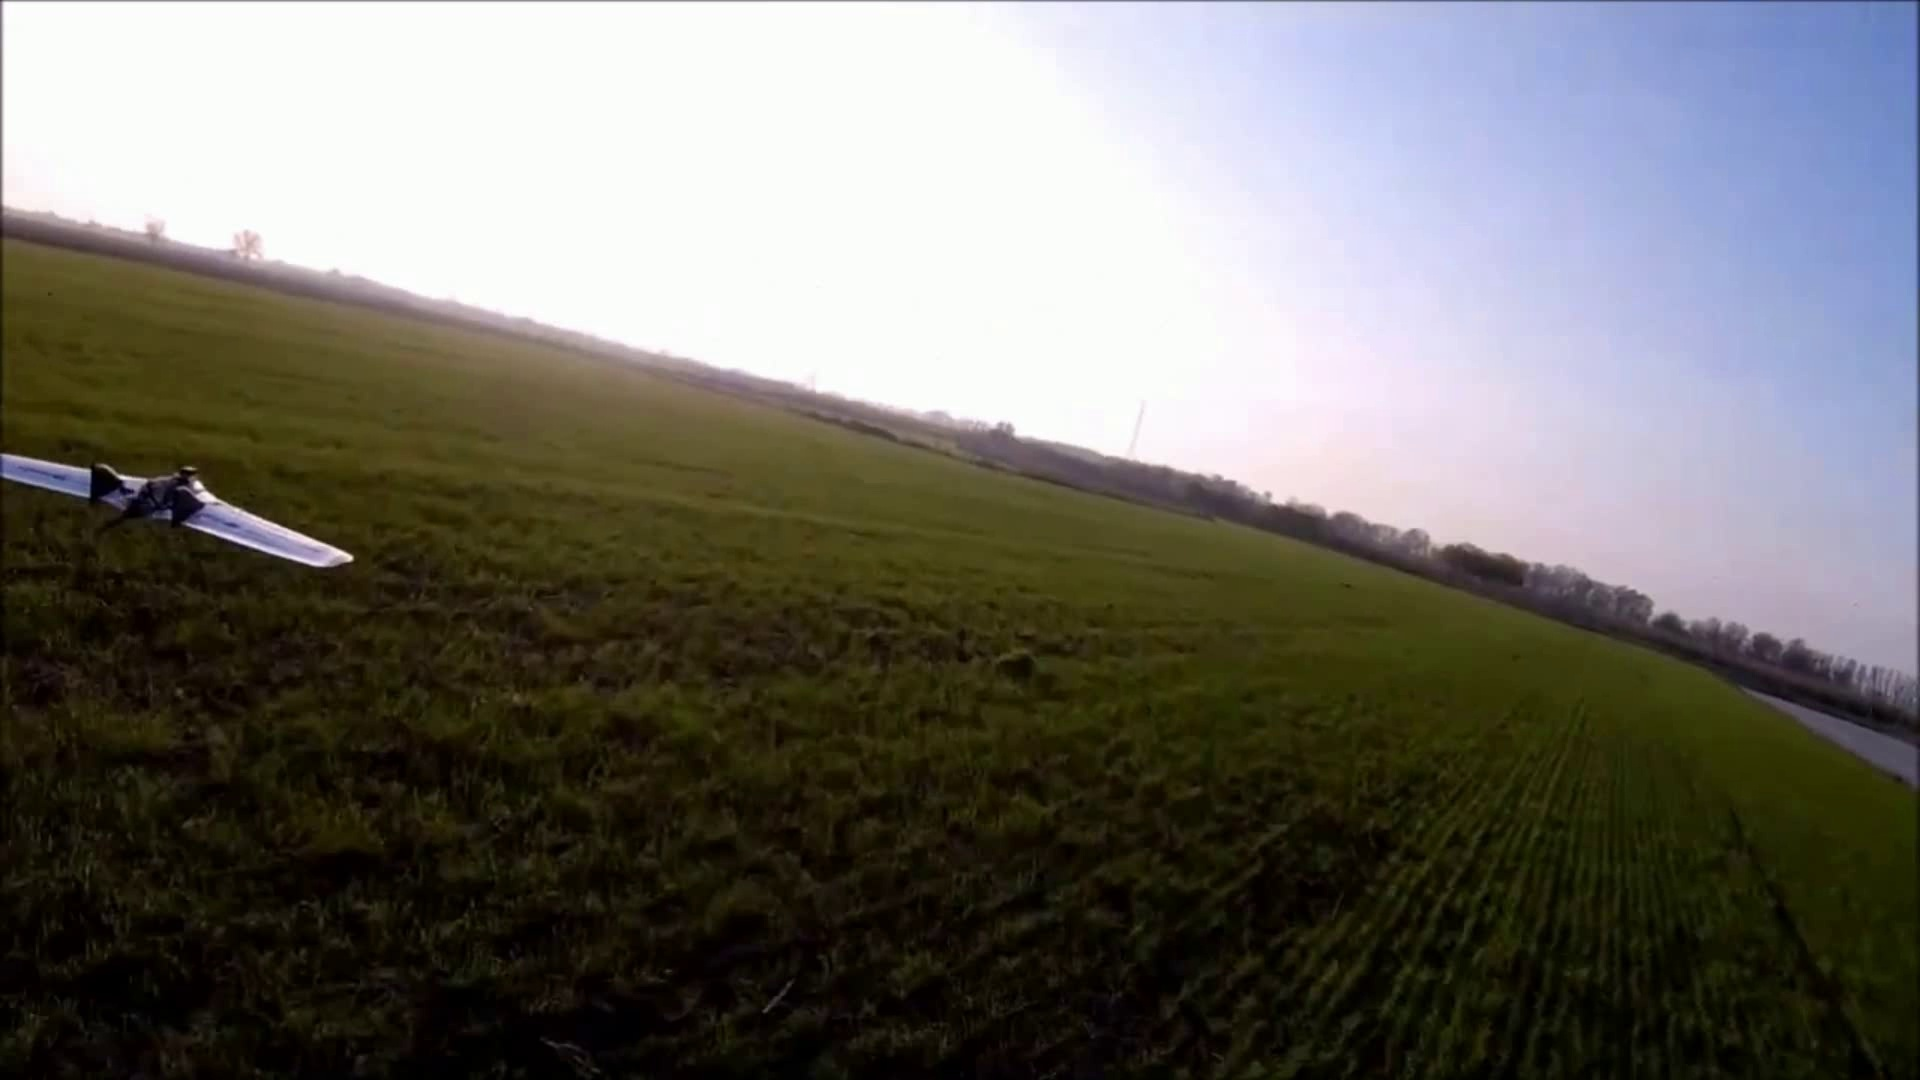airplane: (0, 454, 355, 570)
